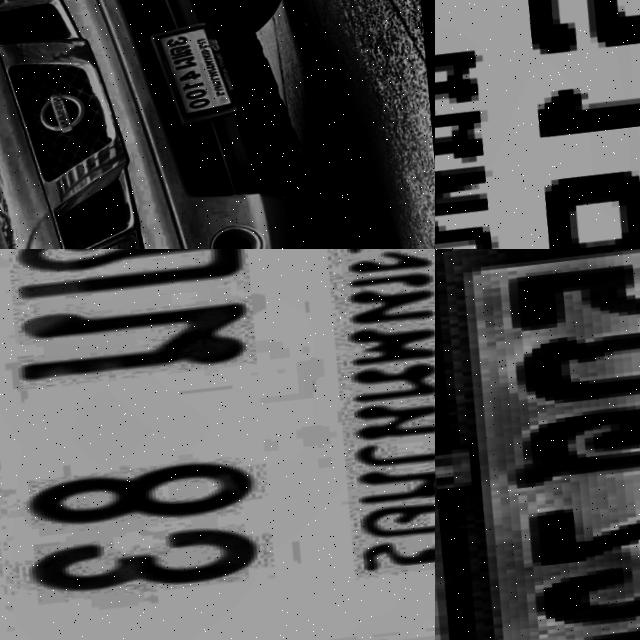license-plate: (0, 249, 435, 640), (435, 249, 640, 640), (435, 0, 640, 249), (142, 16, 248, 127)
